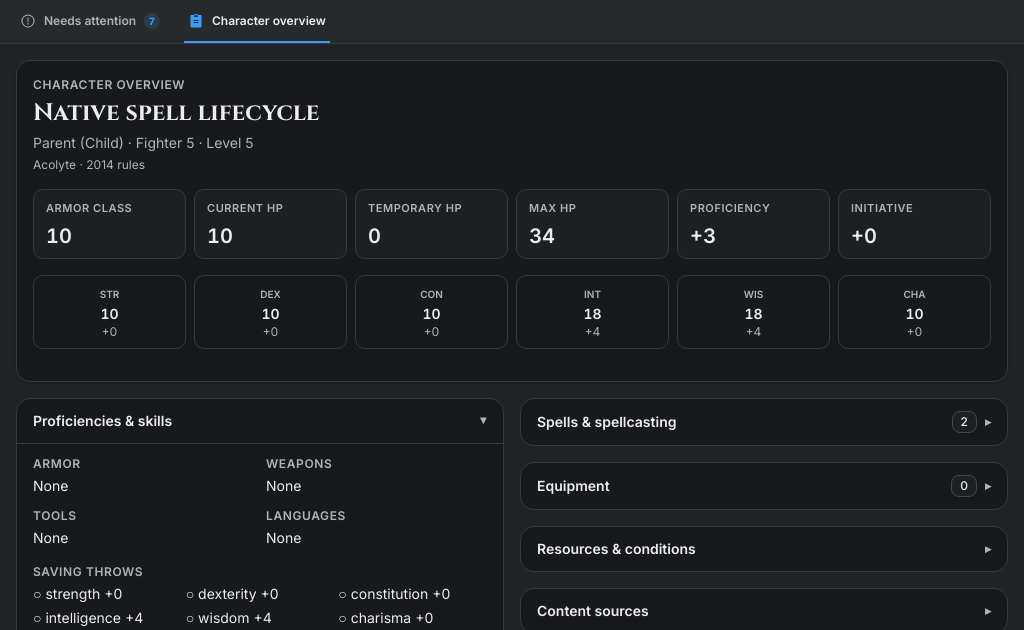
actual overview shows independent effect-aware parent/child casting without class limits or slots
Click the text "Spells & spellcasting": click(607, 422) top-left (537, 412), bottom-right (676, 432)
(page scrolled)
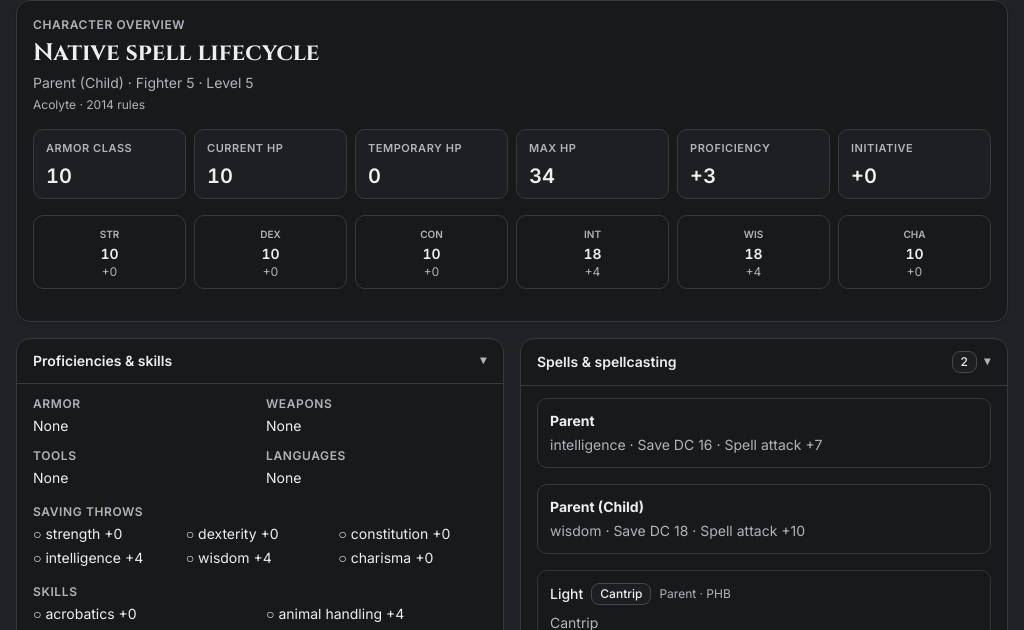
Result: the text "Parent (Child)" is shown at top-left (550, 498), bottom-right (644, 515)
Result: the text "intelligence · Save DC 16 · Spell attack +7" is shown at top-left (550, 436), bottom-right (822, 453)
Result: the text "wisdom · Save DC 18 · Spell attack +10" is shown at top-left (550, 522), bottom-right (805, 539)
